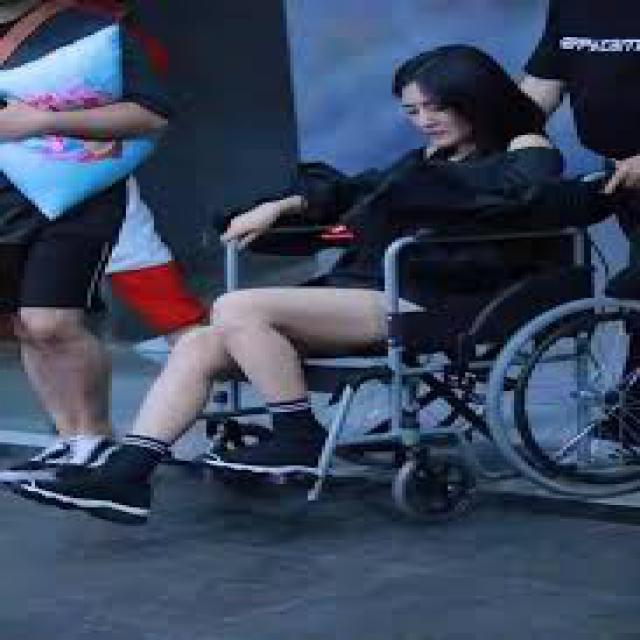wheelchairs: (186, 158, 636, 526)
